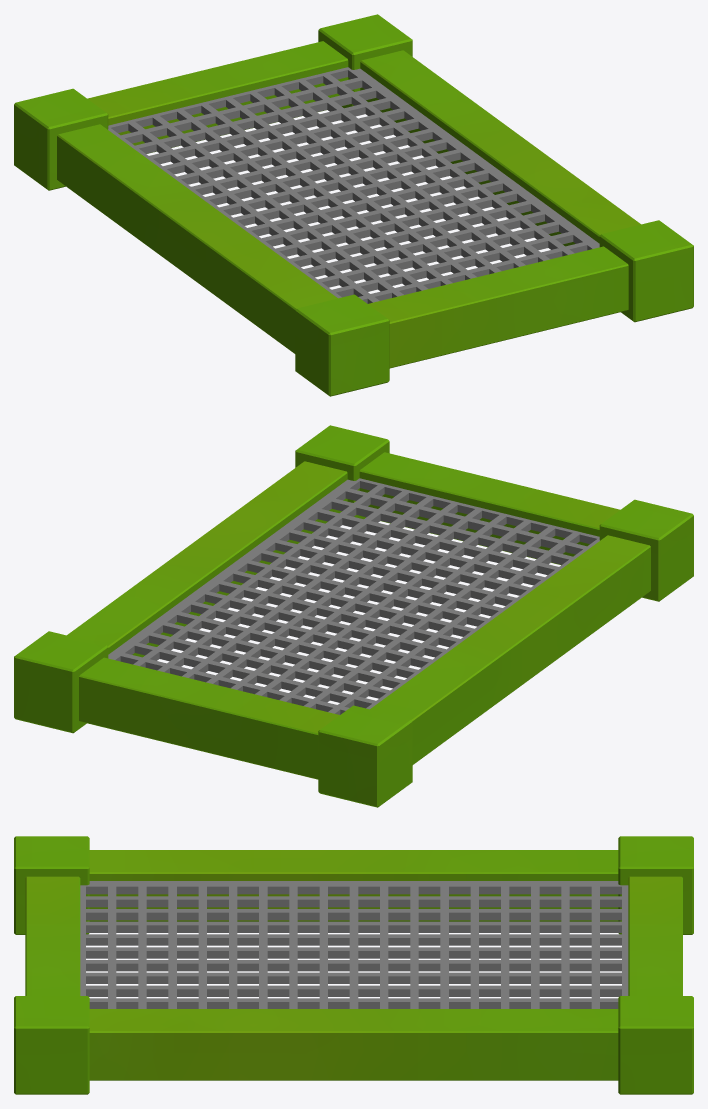
File: BridgeOneSegmentGreen.fbx
The picture shows the model from 3 angles, top to bottom: view 1: azimuth 30°, elevation 25°; view 2: azimuth 150°, elevation 25°; view 3: azimuth 270°, elevation 25°; orthographic projection. The views are drawn at different scales.
Parts seen in each view (by area): view 1: Platform, Grate; view 2: Platform, Grate; view 3: Platform, Grate.
Part boxes in pixels (x1,y1,x2,y2): Platform: [14, 14, 693, 396]; Grate: [108, 67, 599, 303]; Platform: [14, 425, 693, 807]; Grate: [108, 478, 599, 714]; Platform: [14, 836, 693, 1094]; Grate: [80, 881, 628, 1008].
Size of the model in its own units: 6 by 1 by 9.
